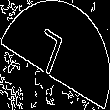L_SW: (36, 25, 74, 85)
